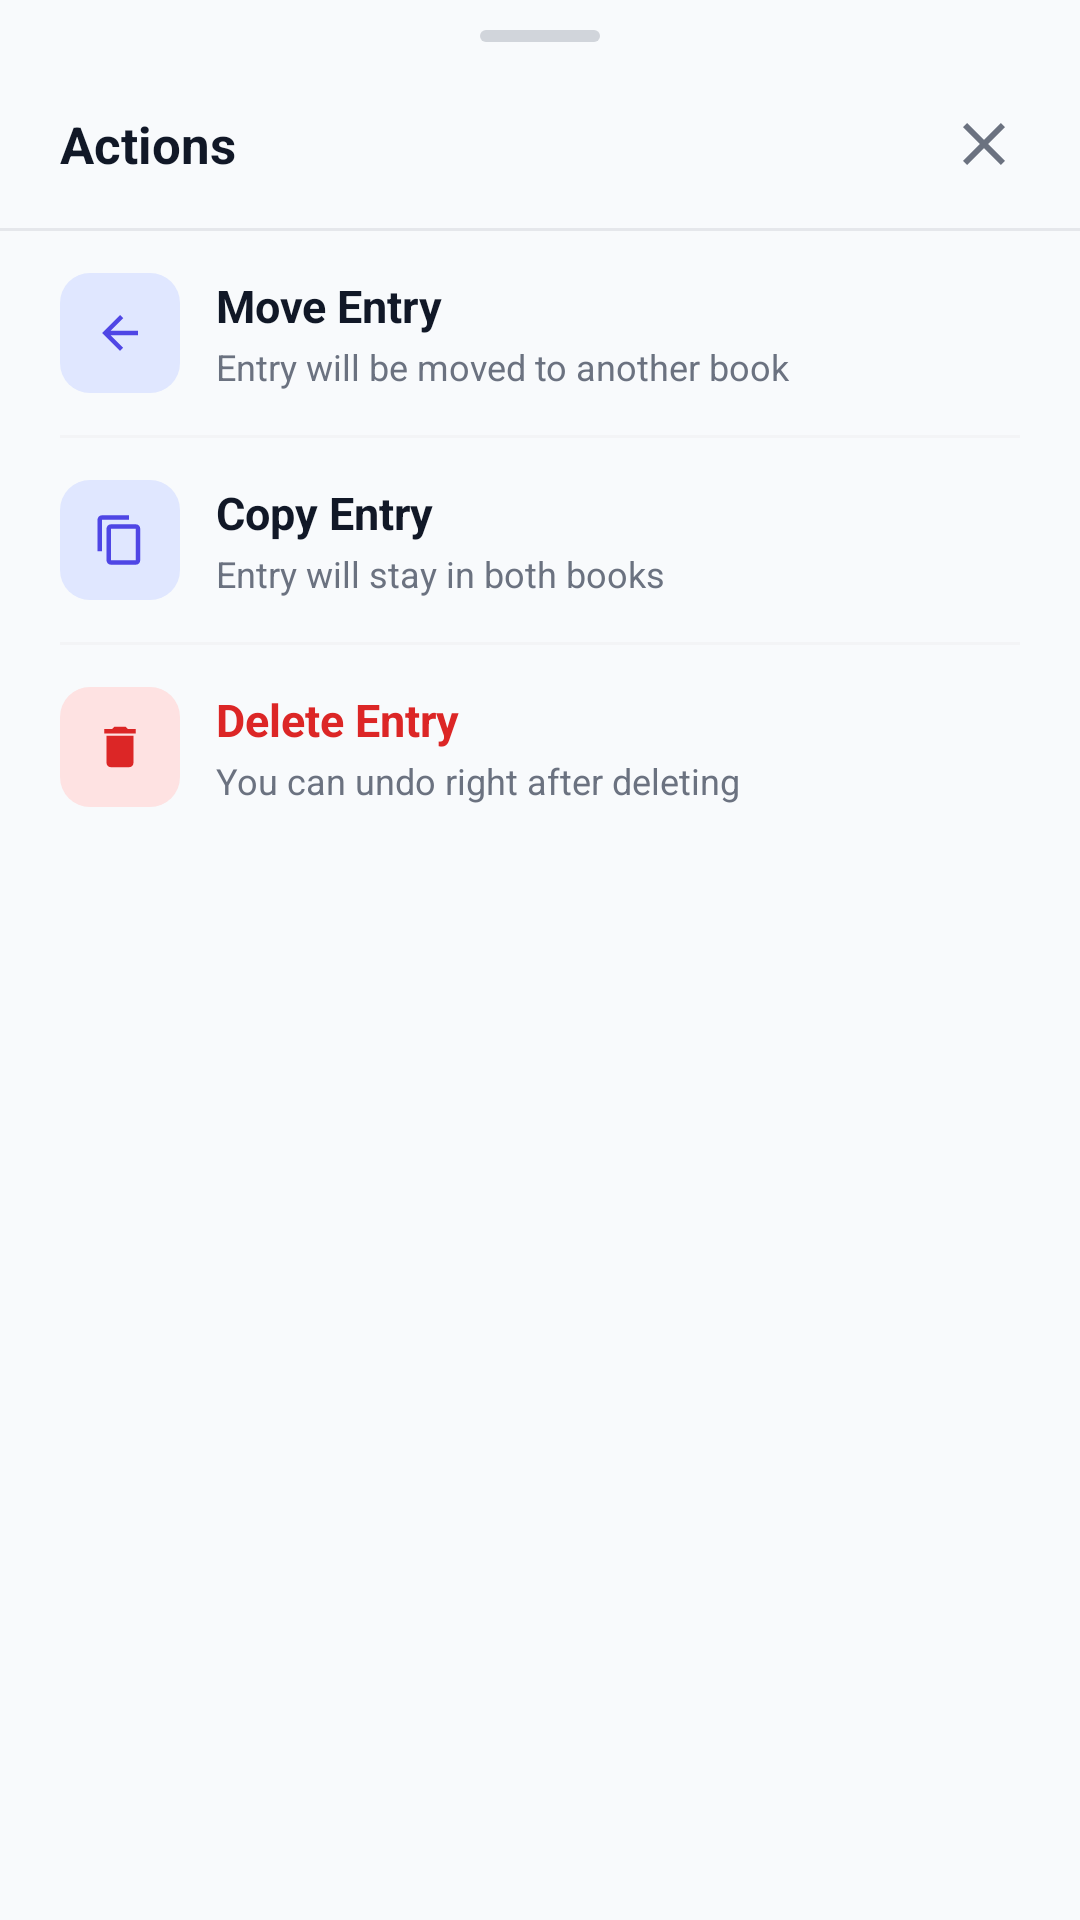

Where to tap for icons on this 1080px x 1920px app screen, as (x=x, y=y):
Close: (x=984, y=144)
duplicate: (x=119, y=540)
